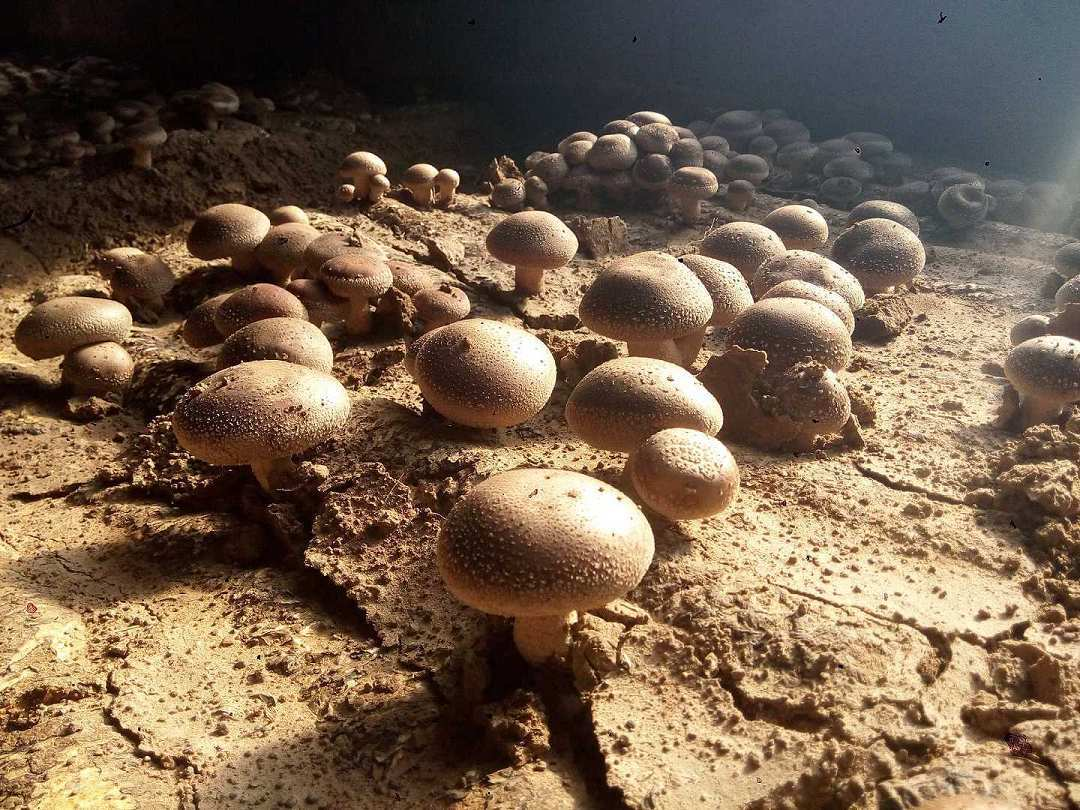B: (439, 470, 662, 669), (175, 359, 350, 489), (406, 314, 559, 436), (582, 255, 711, 365), (567, 356, 724, 443), (644, 420, 748, 525), (835, 214, 929, 306), (732, 304, 855, 373), (488, 212, 580, 300), (1005, 331, 1080, 431), (17, 297, 135, 355), (761, 245, 866, 305), (321, 252, 392, 337), (188, 201, 267, 274), (679, 249, 753, 325), (223, 322, 337, 368), (773, 366, 844, 433), (63, 343, 130, 408), (706, 217, 782, 271), (113, 248, 177, 308), (218, 289, 311, 328), (849, 196, 929, 237), (938, 182, 994, 238), (264, 221, 318, 278), (767, 203, 831, 249), (309, 225, 382, 261), (122, 121, 169, 171), (674, 166, 717, 220), (340, 149, 382, 204), (184, 300, 234, 346), (630, 156, 674, 205), (841, 129, 895, 165), (410, 284, 474, 314), (716, 106, 764, 146), (588, 133, 637, 171), (200, 84, 241, 129), (725, 154, 770, 193), (408, 156, 438, 208), (782, 138, 818, 180), (642, 120, 676, 158), (490, 175, 530, 207), (433, 167, 462, 207), (538, 150, 570, 181)
